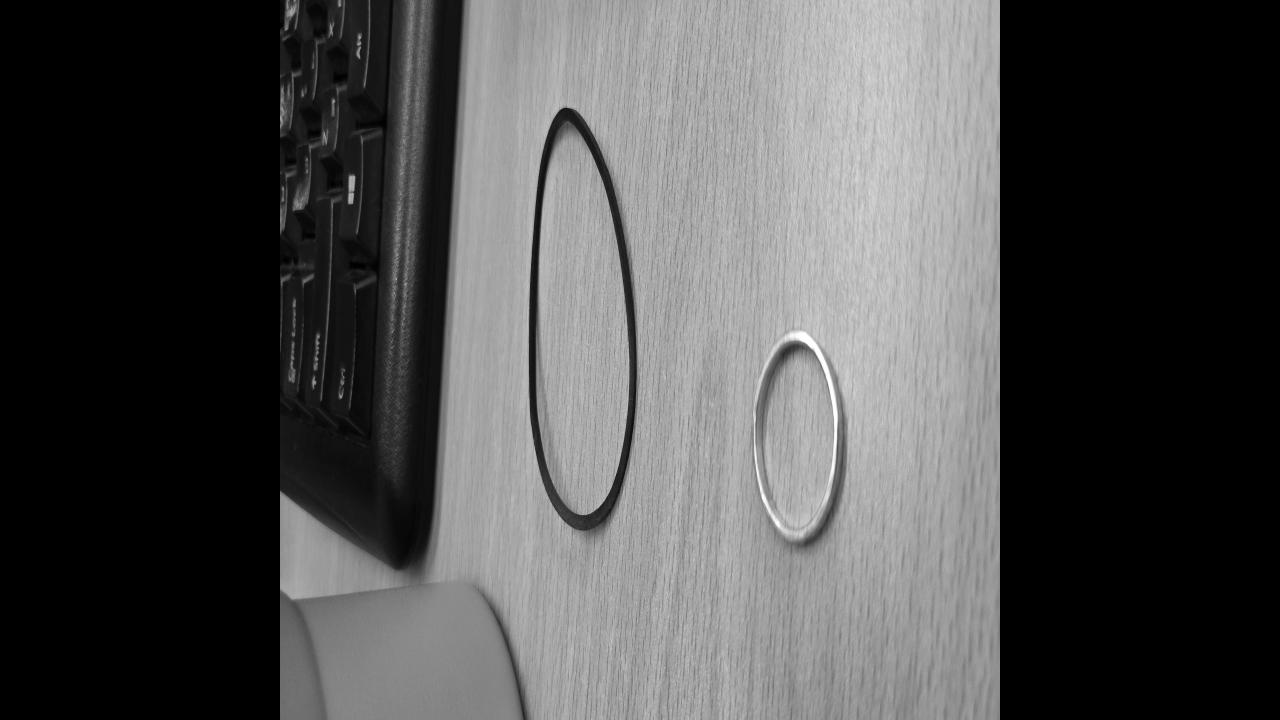ring: (751, 326, 844, 550)
